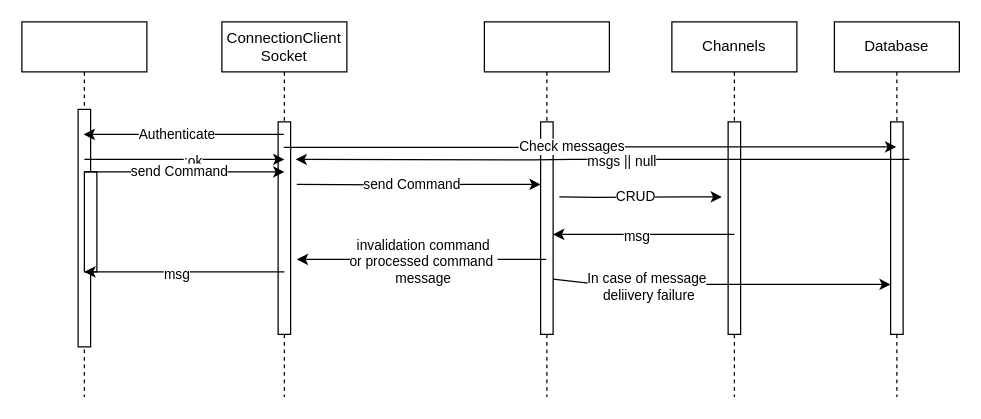
Some shapes in this 981 by 419 pixel diagram are drawn without their labels. Each missing label, with the centre of its shape:
"ChannelManager" belongs at pixel 546 209.
"Client" belongs at pixel 84 209.
